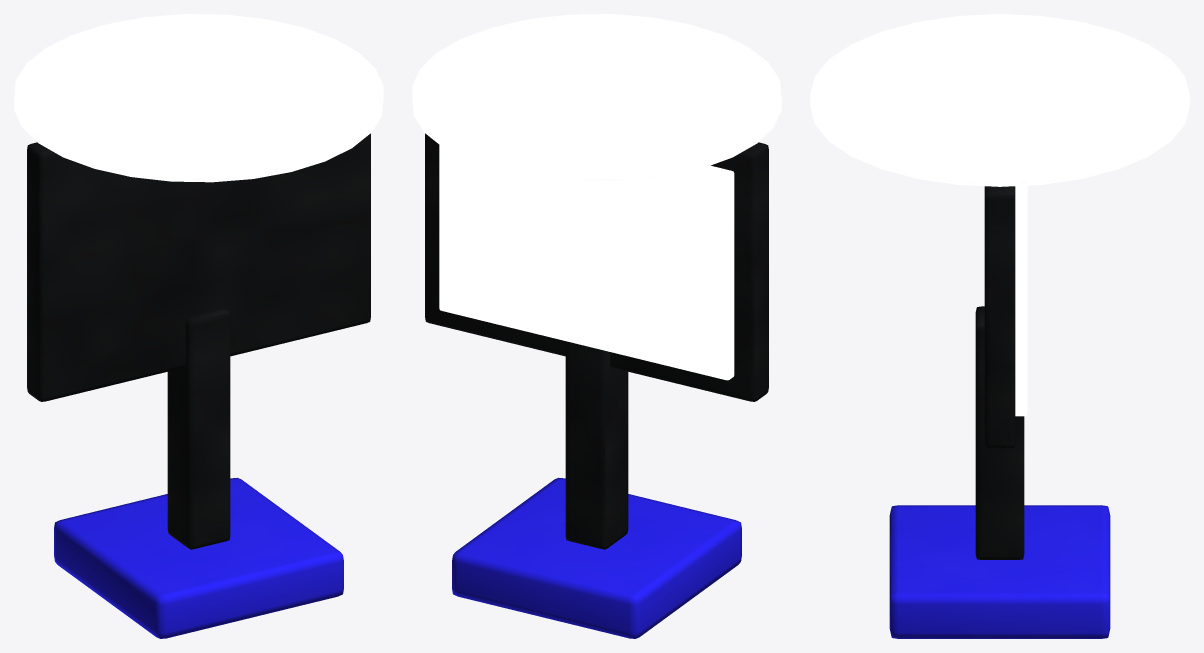
The model's file is pack.agentspace.ad.stripe.01.glb.
The picture shows the model from 3 angles, left to right: view 1: azimuth 30°, elevation 25°; view 2: azimuth 150°, elevation 25°; view 3: azimuth 270°, elevation 25°; orthographic projection. The views are drawn at different scales.
Visible parts, largest first — view 1: CompanyAdFrame, CompanyAdAccent, CompanyAdBase, CompanyAdStem; view 2: CompanyAdGlow, CompanyAdAccent, CompanyAdBase, CompanyAdFrame, CompanyAdStem; view 3: CompanyAdAccent, CompanyAdBase, CompanyAdFrame, CompanyAdStem, CompanyAdGlow.
Part boxes in pixels (x1,y1,x2,y2): CompanyAdFrame: (27,133,370,401); CompanyAdAccent: (14,14,383,182); CompanyAdBase: (54,477,343,638); CompanyAdStem: (167,309,230,549); CompanyAdGlow: (439,145,734,380); CompanyAdAccent: (412,14,781,182); CompanyAdBase: (452,477,741,638); CompanyAdFrame: (425,133,768,401); CompanyAdStem: (565,341,628,549); CompanyAdAccent: (810,14,1189,186); CompanyAdBase: (889,505,1110,638); CompanyAdFrame: (984,186,1015,448); CompanyAdStem: (975,306,1024,559); CompanyAdGlow: (1015,185,1027,416).
Size of the model in its own units: 1.28 by 1.8 by 1.24.
5 materials, 3 textured.
